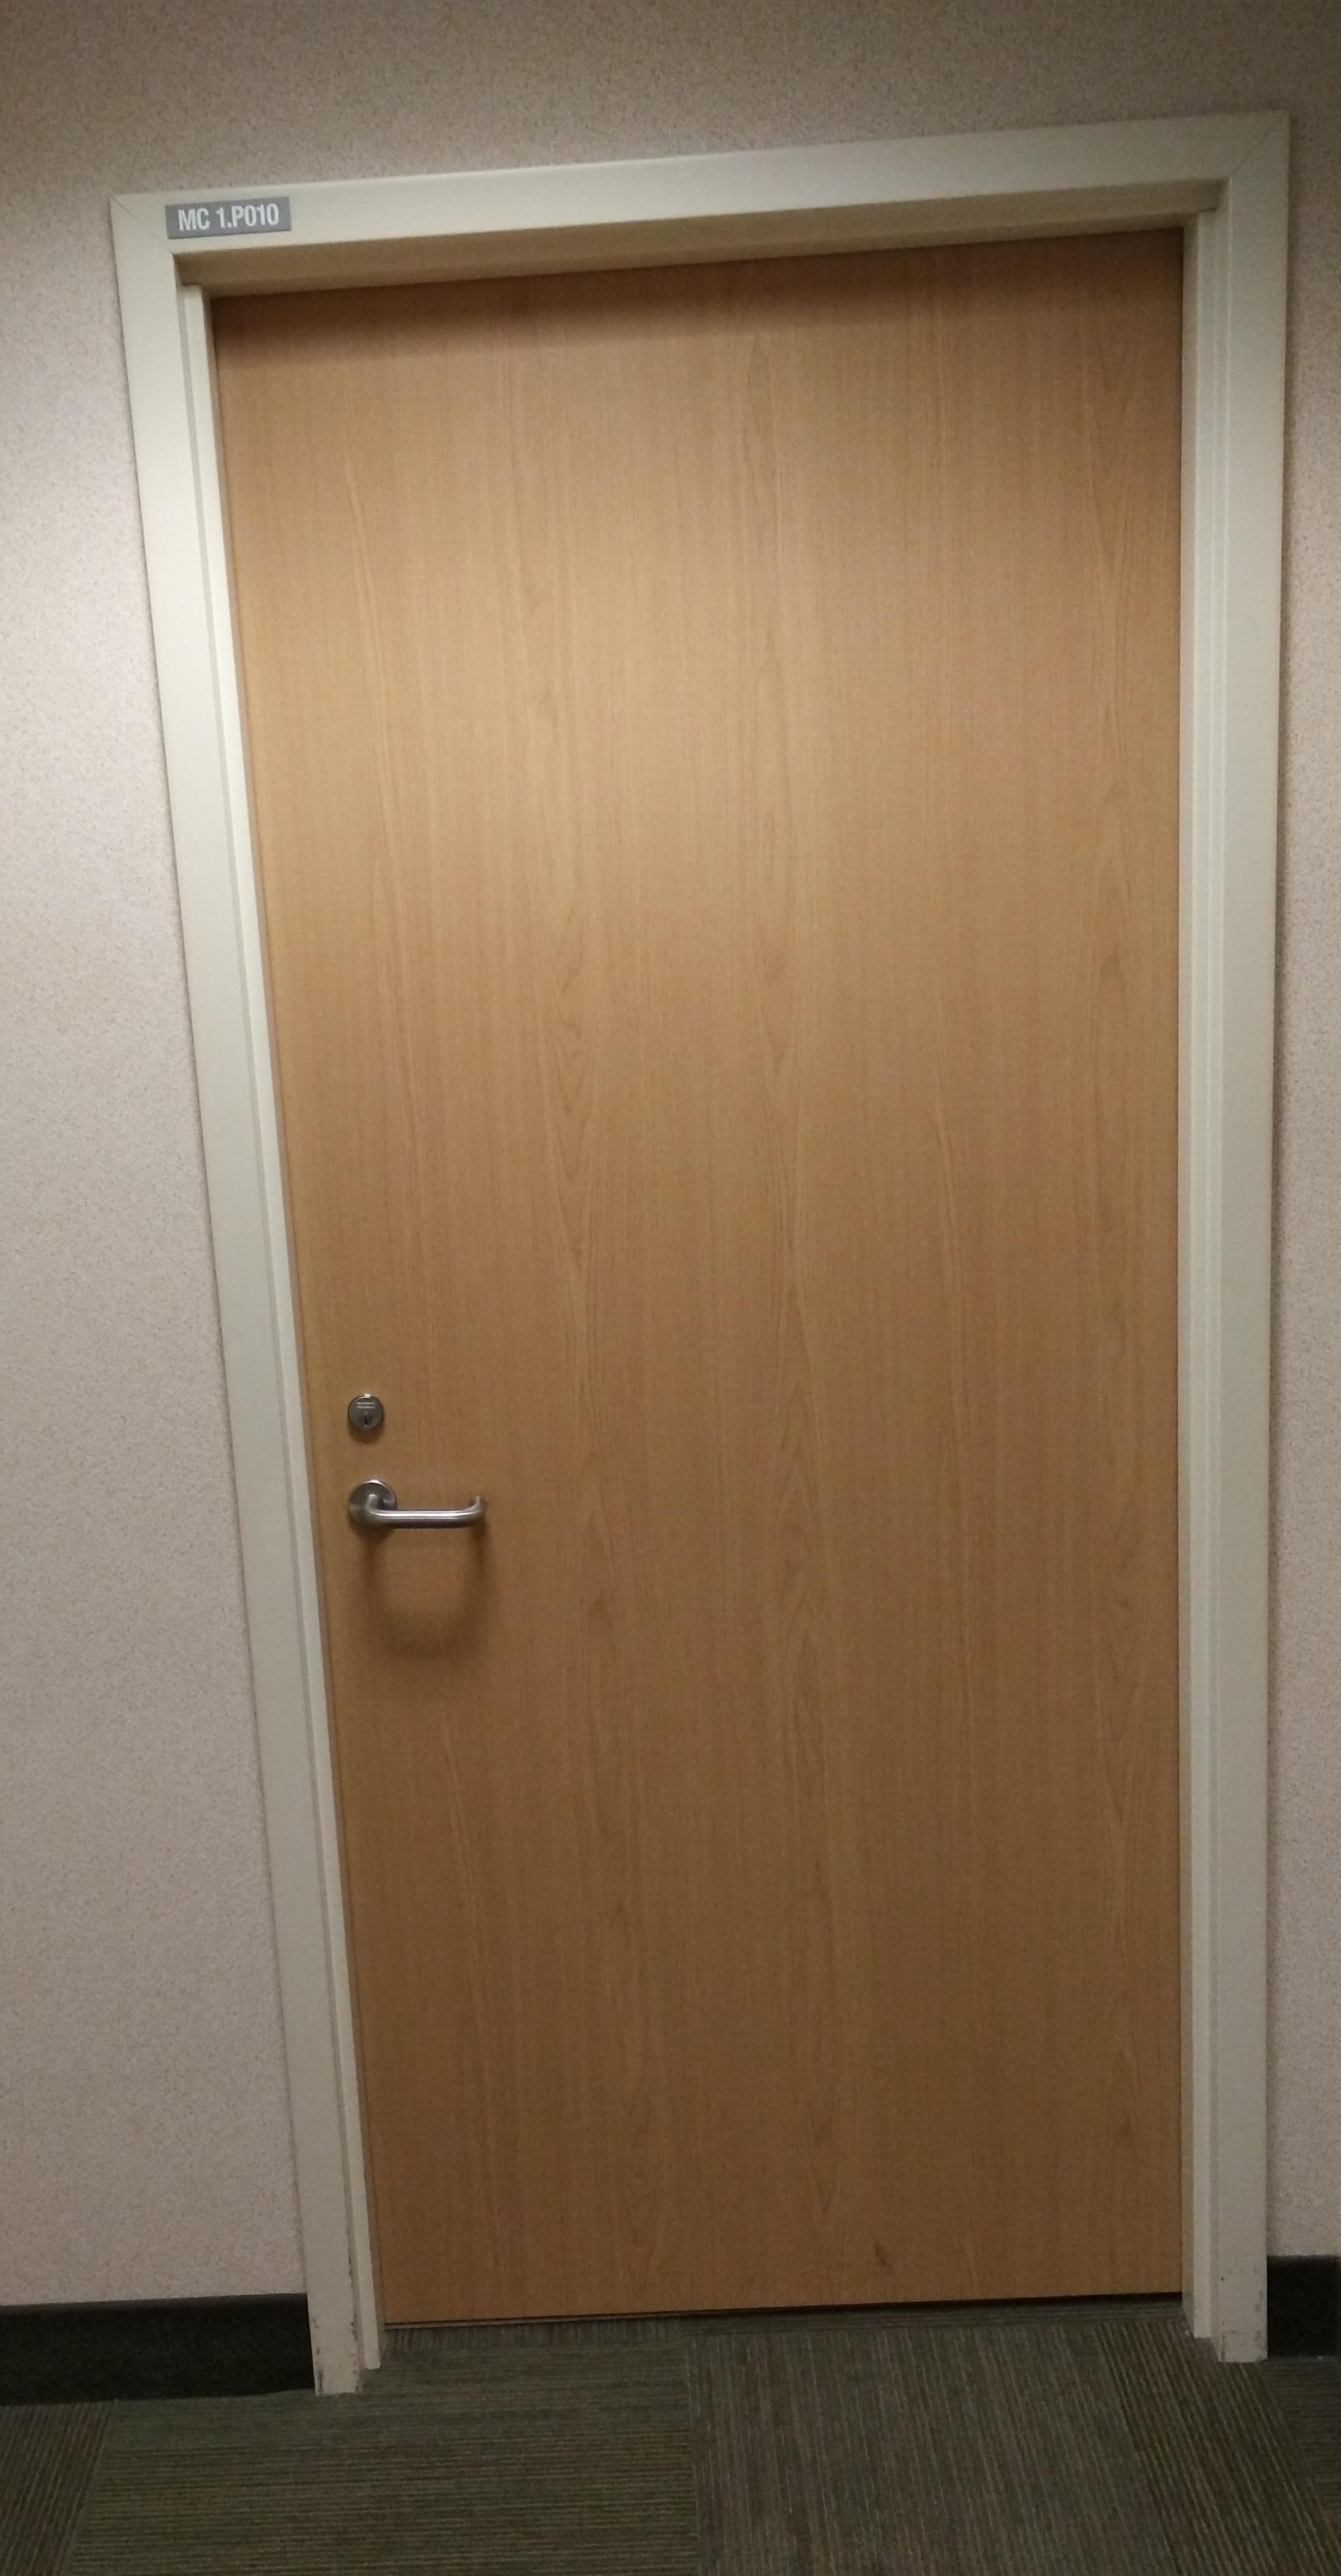door: (172, 191, 1264, 2334)
